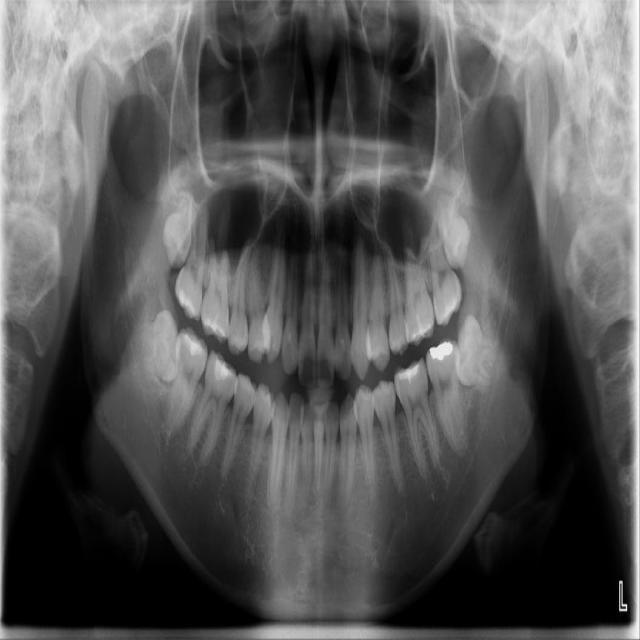3M ESPE Implant: (161, 193, 194, 273)
52: (193, 347, 248, 404), (420, 334, 465, 386), (391, 356, 432, 407), (177, 327, 208, 381), (404, 293, 434, 347)
73: (553, 576, 557, 585)
BioHorizons Implant: (422, 217, 466, 328)
BioLife Implant: (436, 193, 477, 272)
Biomet 3i Implant: (453, 313, 500, 391)
Blue Sky Bio Implant: (424, 335, 466, 452)
Caries: (174, 197, 210, 323)
Implant: (164, 326, 213, 439)
Keystone Dental Implant: (138, 307, 185, 383)
